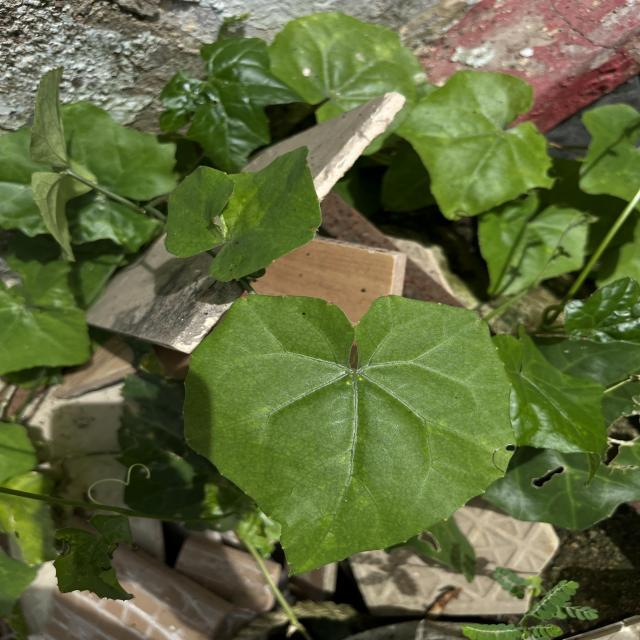Coccinia grandis: (178, 290, 522, 579)
